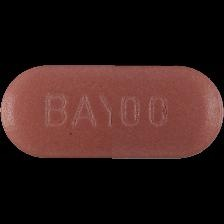43063-580: (0, 0, 224, 224)
